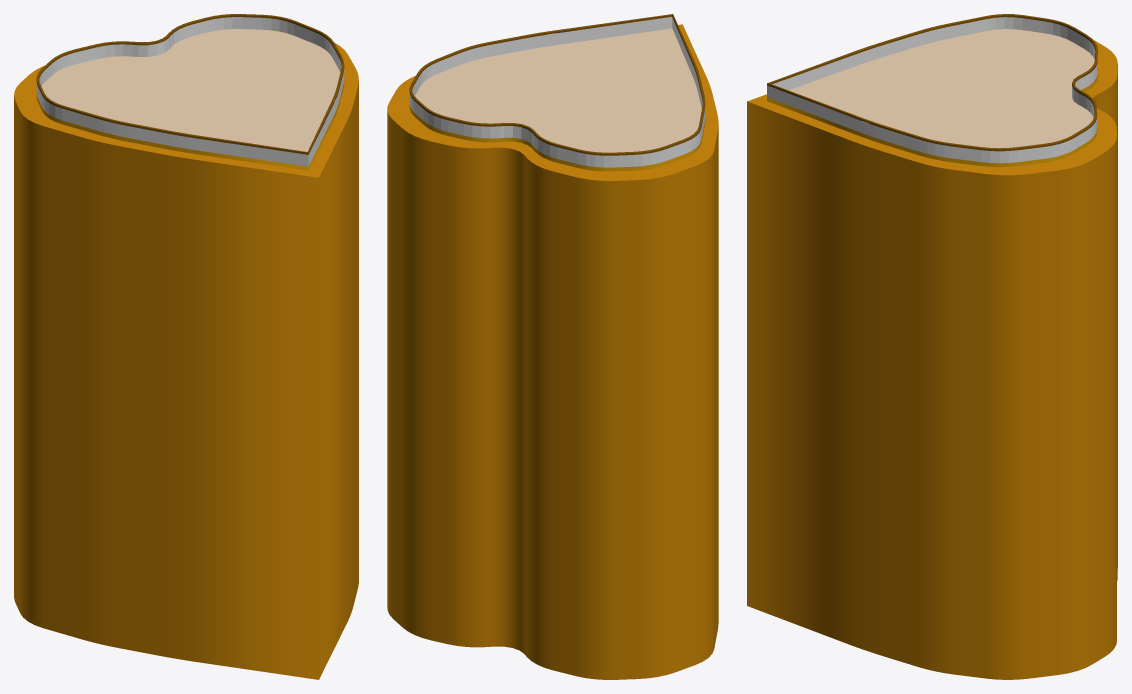
3 renders of one model, left to right at view 1: azimuth 30°, elevation 25°; view 2: azimuth 150°, elevation 25°; view 3: azimuth 270°, elevation 25°, orthographic.
Parts seen in each view (by area): view 1: base39, base18, polySurface1168, polySurface136, polySurface1166, polySurface1167; view 2: base39, base18, polySurface1166, polySurface136, polySurface1168, polySurface1167; view 3: base39, base18, polySurface1166, polySurface1168, polySurface136.
Part boxes in pixels (x1=…): base39: x1=14, y1=42, x2=358, y2=679; base18: x1=36, y1=29, x2=344, y2=170; polySurface1168: x1=36, y1=53, x2=292, y2=164; polySurface136: x1=36, y1=14, x2=344, y2=152; polySurface1166: x1=212, y1=17, x2=344, y2=159; polySurface1167: x1=91, y1=24, x2=193, y2=60; base39: x1=387, y1=24, x2=718, y2=679; base18: x1=409, y1=28, x2=705, y2=171; polySurface1166: x1=409, y1=19, x2=656, y2=130; polySurface136: x1=409, y1=16, x2=705, y2=155; polySurface1168: x1=583, y1=25, x2=705, y2=167; polySurface1167: x1=462, y1=123, x2=563, y2=160; base39: x1=747, y1=40, x2=1117, y2=679; base18: x1=767, y1=29, x2=1097, y2=167; polySurface1166: x1=779, y1=90, x2=1096, y2=163; polySurface1168: x1=782, y1=17, x2=1094, y2=90; polySurface136: x1=779, y1=14, x2=1097, y2=151.
Size of the model in its own units: 71.44 by 115 by 73.81.
